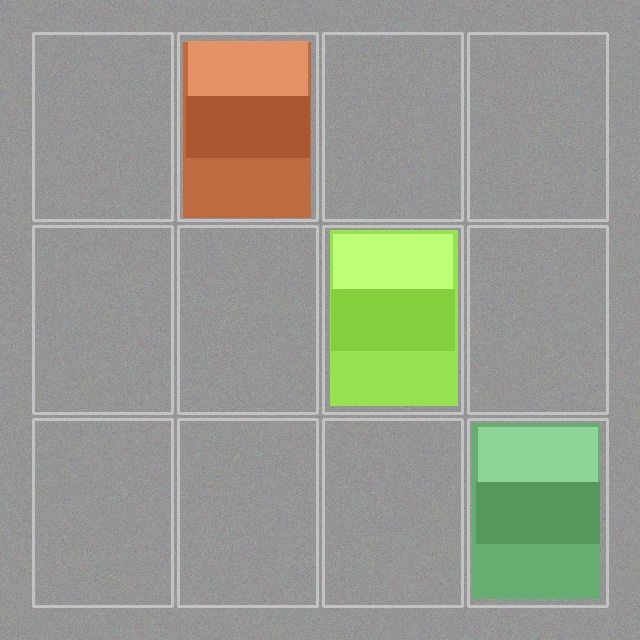space-empty: (35, 35, 170, 218), (325, 35, 460, 218), (470, 35, 605, 218), (35, 228, 170, 411), (180, 228, 315, 411), (470, 228, 605, 411), (35, 421, 170, 604), (180, 421, 315, 604), (325, 421, 460, 604)
space-occupied: (180, 35, 315, 218), (325, 228, 460, 411), (470, 421, 605, 604)
